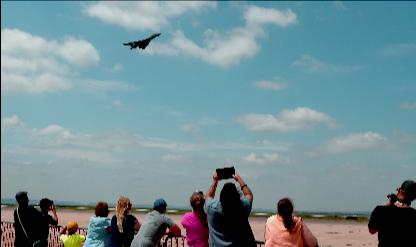AV8B: (122, 33, 160, 50)
